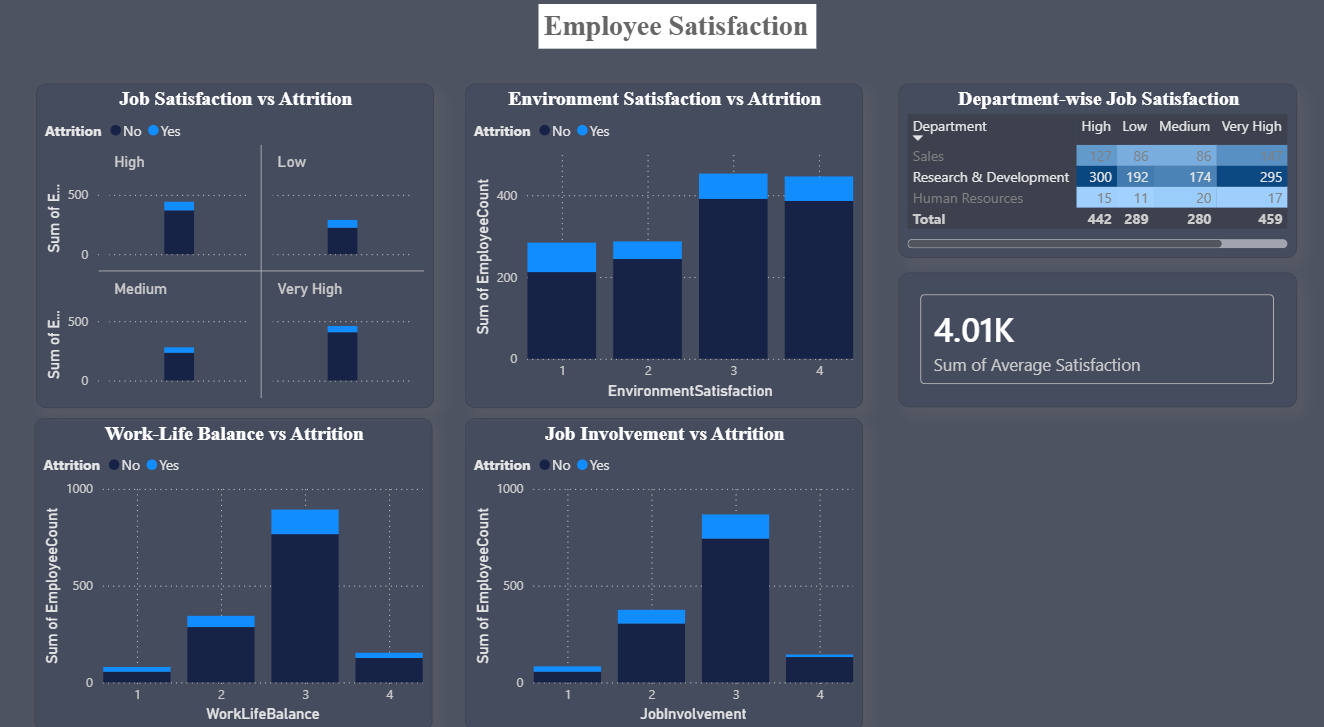

Layout of this report page (visuals, bound fields, positions):
{"tool":"powerbi","page":{"name":"Employee Satisfaction","canvas":[1280,720],"ordinal":3},"visuals":[{"type":"textbox","box":[520.1,11.1,265.6,42.9],"z":0},{"type":"columnChart","title":"Job Satisfaction vs Attrition","fields":{"Y":["Sum(HR.EmployeeCount)"],"Series":["HR.Attrition"],"Rows":["HR.Job Satisfaction Label"]},"box":[39.8,87.5,380.2,310.2],"z":1000},{"type":"columnChart","title":"Environment Satisfaction vs Attrition","fields":{"Category":["HR.EnvironmentSatisfaction"],"Y":["Sum(HR.EmployeeCount)"],"Series":["HR.Attrition"]},"box":[450.1,87.5,380.2,310.2],"z":2000},{"type":"pivotTable","title":"Department-wise Job Satisfaction","fields":{"Values":["Sum(HR.EmployeeCount)"],"Rows":["HR.Department"],"Columns":["HR.Job Satisfaction Label"]},"box":[863.5,87.3,381,166.7],"z":3000},{"type":"columnChart","title":"Work-Life Balance vs Attrition","fields":{"Category":["HR.WorkLifeBalance"],"Y":["Sum(HR.EmployeeCount)"],"Series":["HR.Attrition"]},"box":[39.4,407.3,380.1,299.8],"z":4000},{"type":"columnChart","title":"Job Involvement vs Attrition","fields":{"Category":["HR.JobInvolvement"],"Y":["Sum(HR.EmployeeCount)"],"Series":["HR.Attrition"]},"box":[449.7,407.3,380.1,299.8],"z":5000},{"type":"cardVisual","fields":{"Data":["Sum(HR.Average Satisfaction)"]},"box":[863.5,268.3,381,128.6],"z":6000}]}

Visuals, with their boxes in screenshot pixels (x1, y1, x2, y2), scaled from the page's 1280x720 canvas onto the 1324x727 screenshot:
textbox: BBox(538, 11, 813, 55)
"Job Satisfaction vs Attrition" columnChart: BBox(41, 88, 434, 402)
"Environment Satisfaction vs Attrition" columnChart: BBox(466, 88, 859, 402)
"Department-wise Job Satisfaction" pivotTable: BBox(893, 88, 1287, 256)
"Work-Life Balance vs Attrition" columnChart: BBox(41, 411, 434, 714)
"Job Involvement vs Attrition" columnChart: BBox(465, 411, 858, 714)
cardVisual - Sum(HR.Average Satisfaction): BBox(893, 271, 1287, 401)
